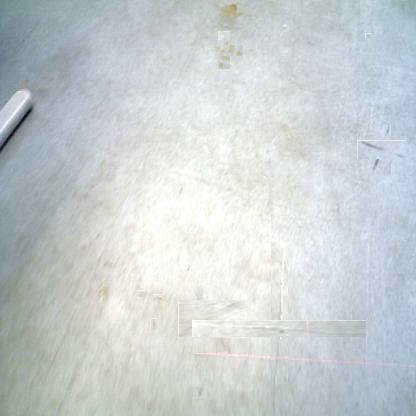liquid: (232, 281, 327, 377), (211, 38, 237, 62), (220, 2, 238, 30), (238, 10, 258, 18)
mark: (186, 293, 240, 346), (364, 132, 399, 167), (150, 318, 157, 333), (196, 387, 204, 399), (138, 289, 147, 299), (154, 293, 163, 303), (278, 327, 286, 337), (366, 32, 372, 38)
